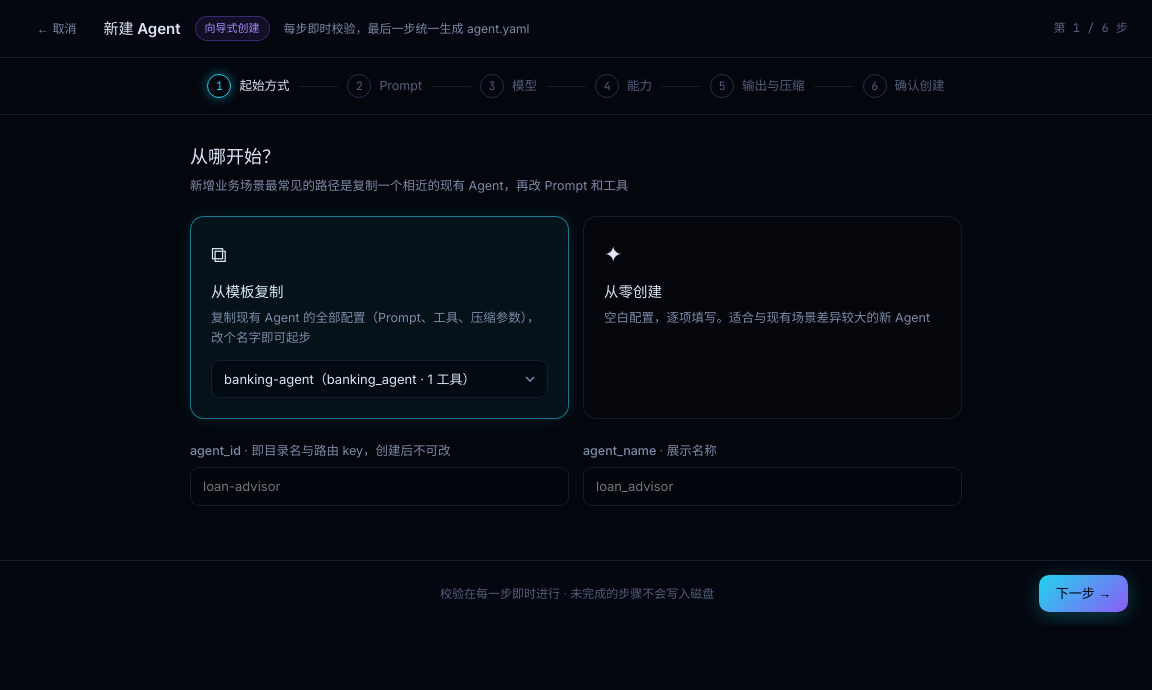
Test: AgentWizardPage › blocks advancing when agent_id is empty
This screenshot has width=1152, height=690.
Click the button "下一步 →" at (1083, 594), box [1039,575,1128,612]
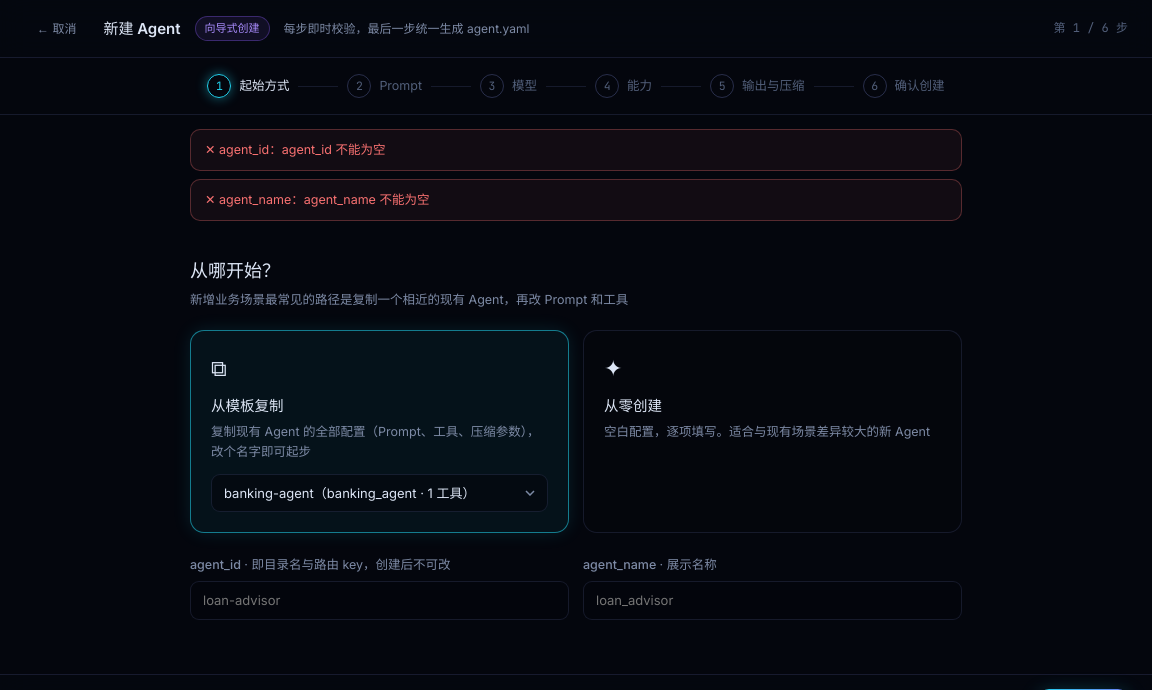
expect the text "第 1 / 6 步" is shown: met, box [1054,19,1128,38]
expect the text "agent_id 不能为空" is shown: met, box [205,142,386,157]
